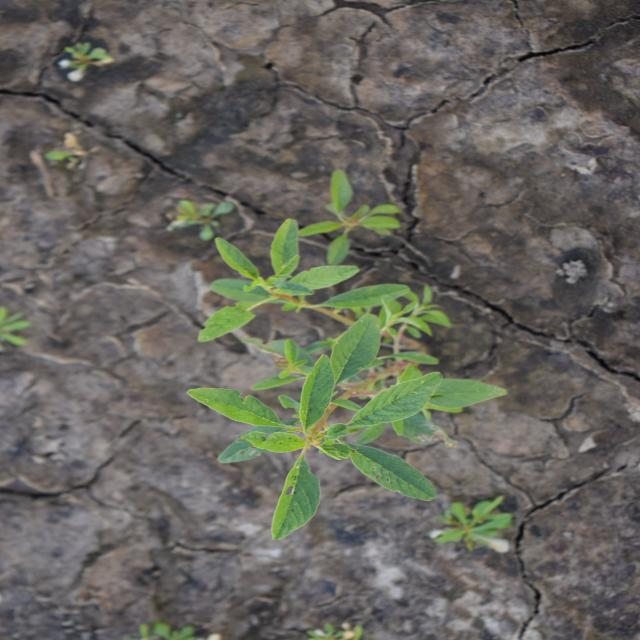Waterhemp: (182, 167, 511, 544)
